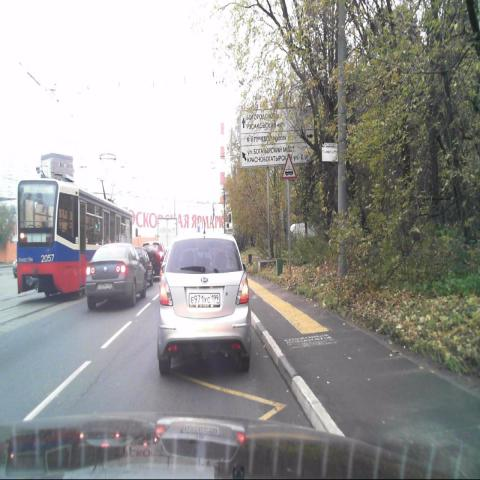1_5: (282, 155, 296, 179)
